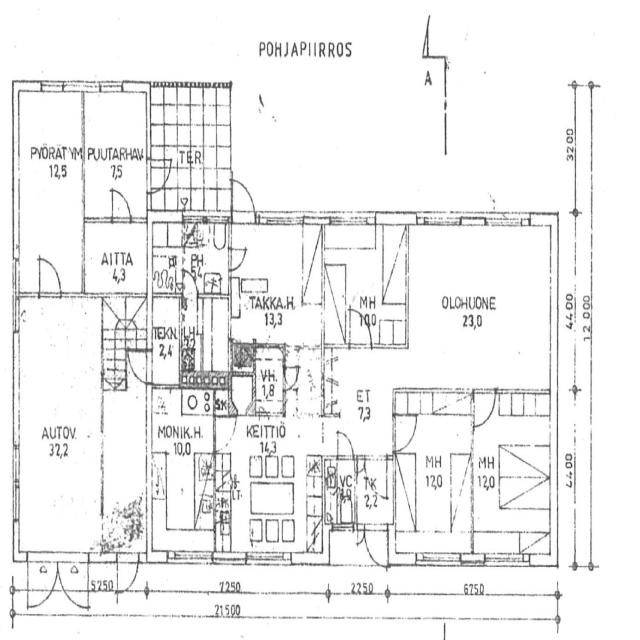door: (97, 129, 145, 226), (24, 554, 91, 610), (342, 268, 381, 351), (347, 300, 376, 352), (35, 253, 63, 300), (230, 176, 256, 224), (362, 523, 389, 569), (470, 387, 498, 430), (392, 412, 419, 454), (213, 412, 237, 450), (109, 186, 132, 225), (147, 157, 170, 195), (116, 556, 139, 593), (128, 348, 152, 383), (335, 429, 355, 462), (228, 244, 248, 273), (282, 364, 300, 392), (182, 270, 198, 297), (160, 167, 173, 190)
window: (412, 548, 464, 575), (476, 546, 527, 572), (165, 548, 211, 570), (212, 551, 249, 570), (39, 76, 64, 98), (98, 78, 124, 98)
zone: (406, 220, 554, 390), (15, 296, 103, 562), (216, 414, 326, 563), (393, 389, 472, 560), (472, 389, 552, 557), (15, 90, 85, 274), (148, 382, 215, 557), (230, 221, 322, 347), (324, 217, 409, 351), (84, 87, 151, 224), (151, 294, 228, 386), (160, 216, 228, 297), (82, 220, 149, 298), (24, 556, 90, 612), (354, 452, 392, 526), (379, 216, 408, 309), (324, 454, 355, 527), (151, 231, 184, 298), (255, 345, 285, 414)
